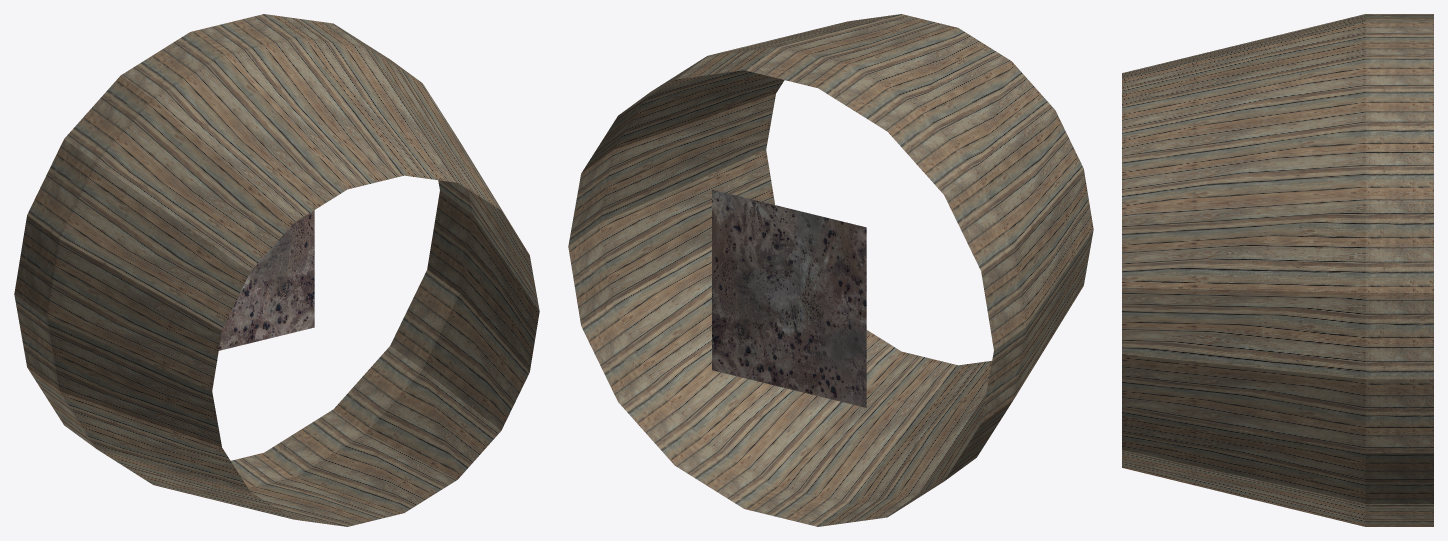
The model's file is RT_URBANSCENE_wtf.obj.
The picture shows the model from 3 angles, left to right: view 1: azimuth 30°, elevation 25°; view 2: azimuth 150°, elevation 25°; view 3: azimuth 270°, elevation 25°; orthographic projection. The views are drawn at different scales.
Parts seen in each view (by area): view 1: group73, group124; view 2: group73, group124; view 3: group73.
Part boxes in pixels (x1,y1,x2,y2): group73: (14,14,539,526); group124: (219,210,314,350); group73: (568,14,1093,526); group124: (712,189,866,407); group73: (1122,14,1433,526).
Bounding box in the file's own units: 660 × 650 × 400.
